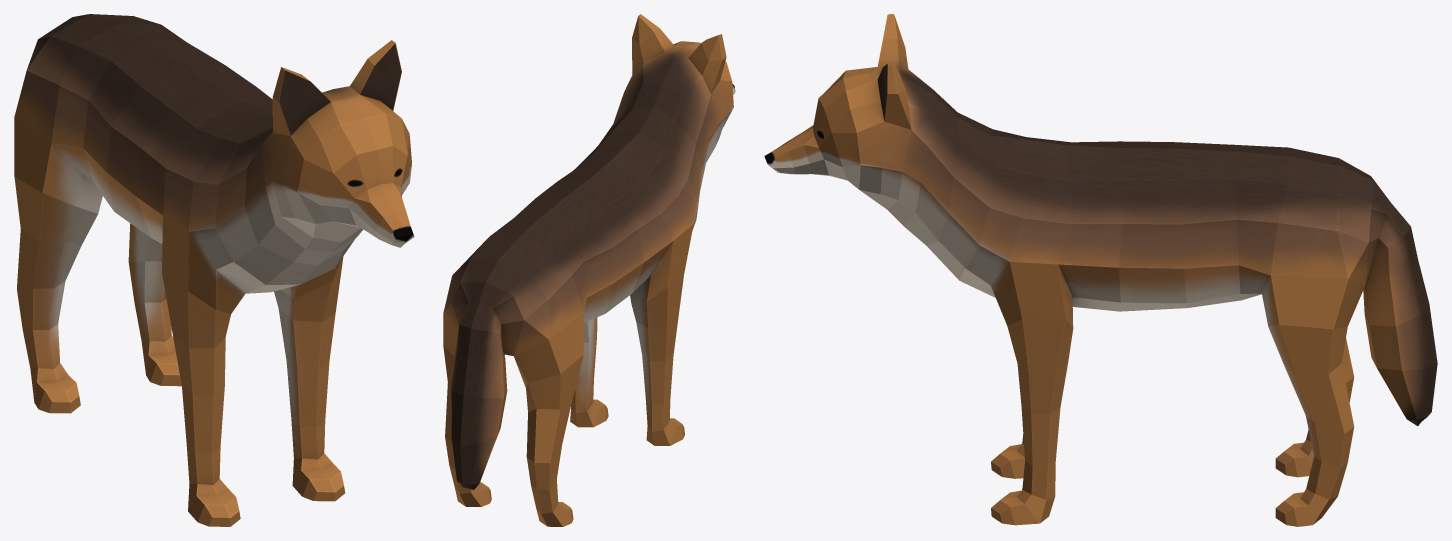
The model's file is coiote.glb.
3 views of the same model, side by side, from view 1: azimuth 30°, elevation 25°; view 2: azimuth 150°, elevation 25°; view 3: azimuth 270°, elevation 25° (orthographic). The views are drawn at different scales.
Parts seen in each view (by area): view 1: Coyote_Mesh; view 2: Coyote_Mesh; view 3: Coyote_Mesh.
Boxes of the visible parts, x1,y1,x2,y2 form: Coyote_Mesh: (14, 14, 414, 526); Coyote_Mesh: (443, 14, 735, 526); Coyote_Mesh: (764, 14, 1437, 526).
Size of the model in its own units: 1.8 by 5.11 by 6.85.
Materials: 1 (1 with a texture image).
